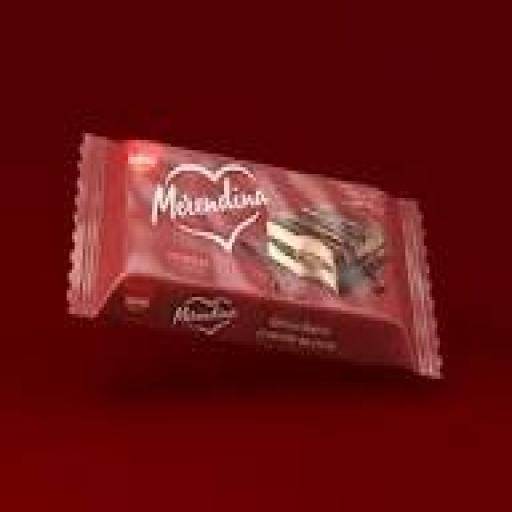merendina: (64, 109, 446, 411)
